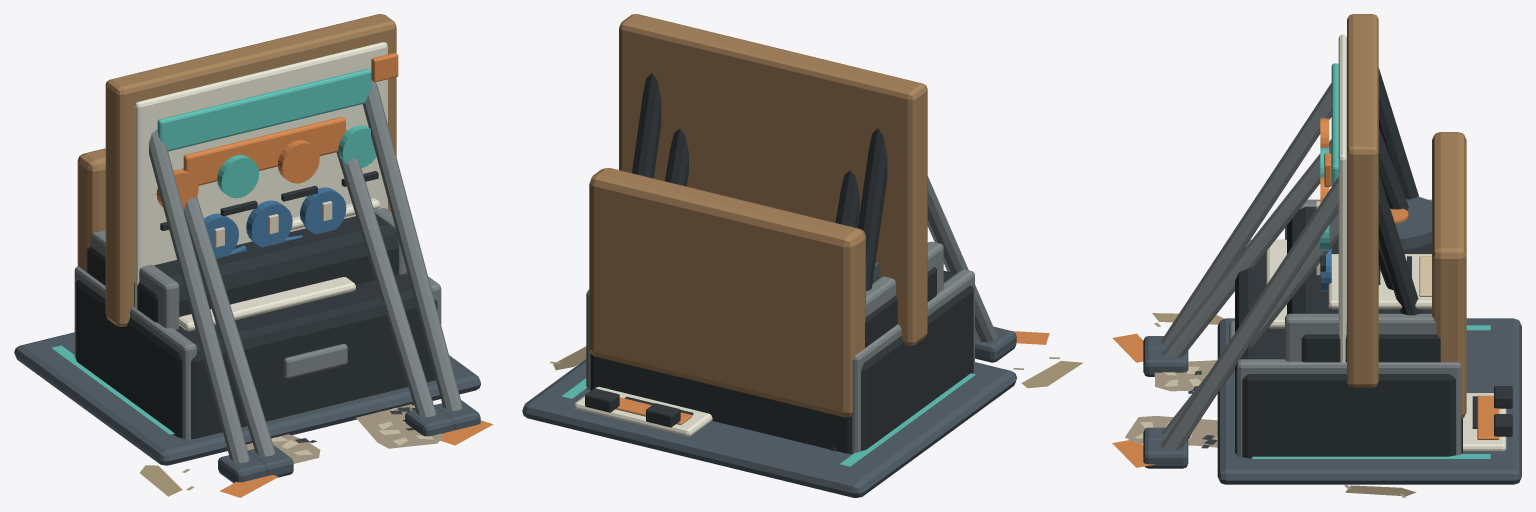
File: city-guide-yard.glb
The picture shows the model from 3 angles, left to right: view 1: azimuth 30°, elevation 25°; view 2: azimuth 150°, elevation 25°; view 3: azimuth 270°, elevation 25°; orthographic projection. The views are drawn at different scales.
Visible parts, largest first — view 1: Black binder clip, Signed line-up paper, Signed line-up backing, Folded support, Rolled floor mat, Folded support.001, Black binder clip.001, Ink band, Ink band.003, Aluminium opened-case edge, Raised score dial, Participant stamp (+12 smaller); view 2: Folding case lid, Signed line-up backing, Black binder clip, Rolled floor mat, Power event score dial backing, Name below stamp, Aluminium opened-case edge, Folded support, Rear leg, Practice steps, Black binder clip.002, Aluminium edge (+4 smaller); view 3: Black binder clip, Rolled floor mat, Signed line-up backing, Folded support, Folding case lid, Folded support.001, Black binder clip.001, Name below stamp, Aluminium opened-case edge, Aluminium edge, Signed line-up paper, Broken chalk fleck (+15 smaller).
Part boxes in pixels (x1=…): Black binder clip: x1=76, y1=273, x2=437, y2=438; Signed line-up paper: x1=134, y1=42, x2=387, y2=308; Signed line-up backing: x1=105, y1=14, x2=396, y2=326; Folded support: x1=149, y1=81, x2=462, y2=462; Rolled floor mat: x1=14, y1=332, x2=480, y2=465; Folded support.001: x1=181, y1=129, x2=435, y2=456; Black binder clip.001: x1=87, y1=214, x2=398, y2=327; Ink band: x1=157, y1=68, x2=376, y2=198; Ink band.003: x1=183, y1=116, x2=493, y2=497; Aluminium opened-case edge: x1=74, y1=266, x2=441, y2=439; Raised score dial: x1=204, y1=187, x2=346, y2=258; Participant stamp: x1=156, y1=52, x2=398, y2=210; Folding case lid: x1=589, y1=168, x2=865, y2=417; Signed line-up backing: x1=619, y1=14, x2=927, y2=345; Black binder clip: x1=590, y1=270, x2=973, y2=453; Rolled floor mat: x1=522, y1=359, x2=1016, y2=497; Power event score dial backing: x1=658, y1=99, x2=868, y2=227; Name below stamp: x1=632, y1=73, x2=887, y2=451; Aluminium opened-case edge: x1=586, y1=269, x2=974, y2=453; Folded support: x1=927, y1=176, x2=997, y2=342; Rear leg: x1=665, y1=128, x2=859, y2=444; Practice steps: x1=574, y1=387, x2=712, y2=436; Black binder clip.002: x1=585, y1=388, x2=693, y2=427; Aluminium edge: x1=865, y1=241, x2=943, y2=316; Black binder clip: x1=1235, y1=252, x2=1462, y2=458; Rolled floor mat: x1=1217, y1=318, x2=1521, y2=484; Signed line-up backing: x1=1347, y1=14, x2=1378, y2=387; Folded support: x1=1160, y1=83, x2=1338, y2=449; Folding case lid: x1=1432, y1=132, x2=1466, y2=418; Folded support.001: x1=1161, y1=139, x2=1338, y2=436; Black binder clip.001: x1=1287, y1=207, x2=1440, y2=362; Name below stamp: x1=1320, y1=68, x2=1422, y2=315; Aluminium opened-case edge: x1=1229, y1=239, x2=1461, y2=457; Aluminium edge: x1=1285, y1=199, x2=1436, y2=361; Signed line-up paper: x1=1338, y1=34, x2=1346, y2=362; Broken chalk fleck: x1=1125, y1=322, x2=1406, y2=497.
Bounding box in the file's own units: 1.27 × 1.06 × 1.19.
